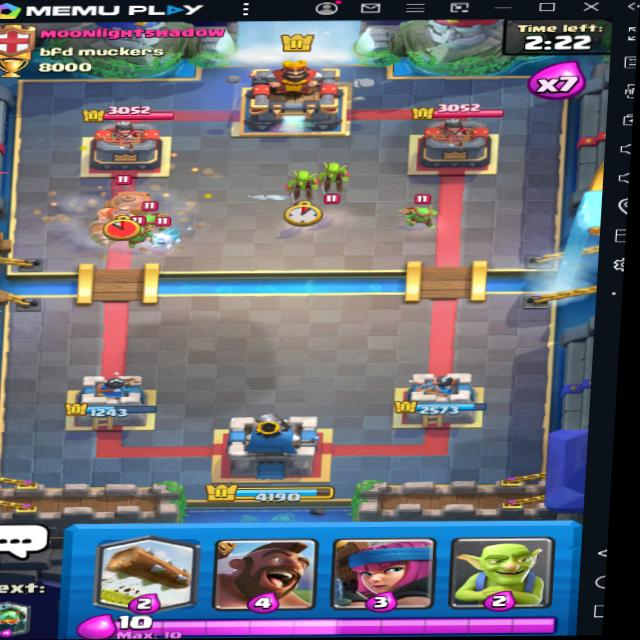ice-spirit: (144, 216, 196, 251)
mighty-miner: (88, 173, 173, 248)
spear-goblin: (119, 214, 159, 248), (136, 204, 168, 239), (406, 196, 439, 227)
